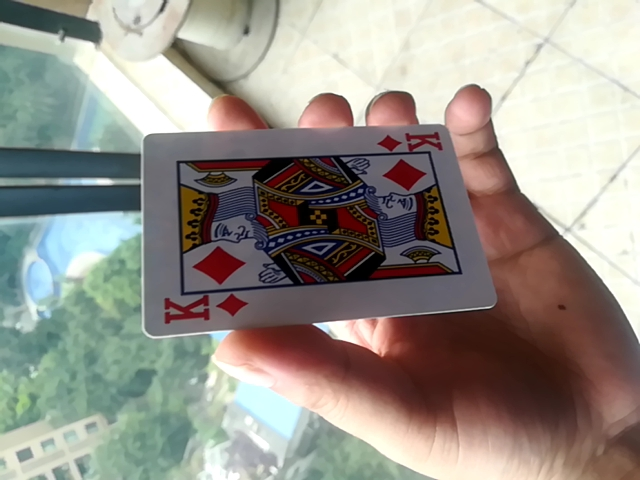fk k: (143, 115, 491, 342)
